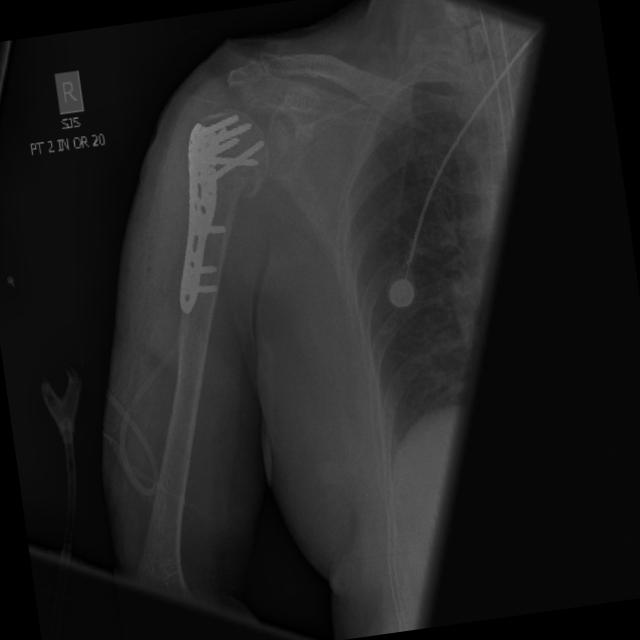shoulder fracture: (224, 161, 269, 218)
